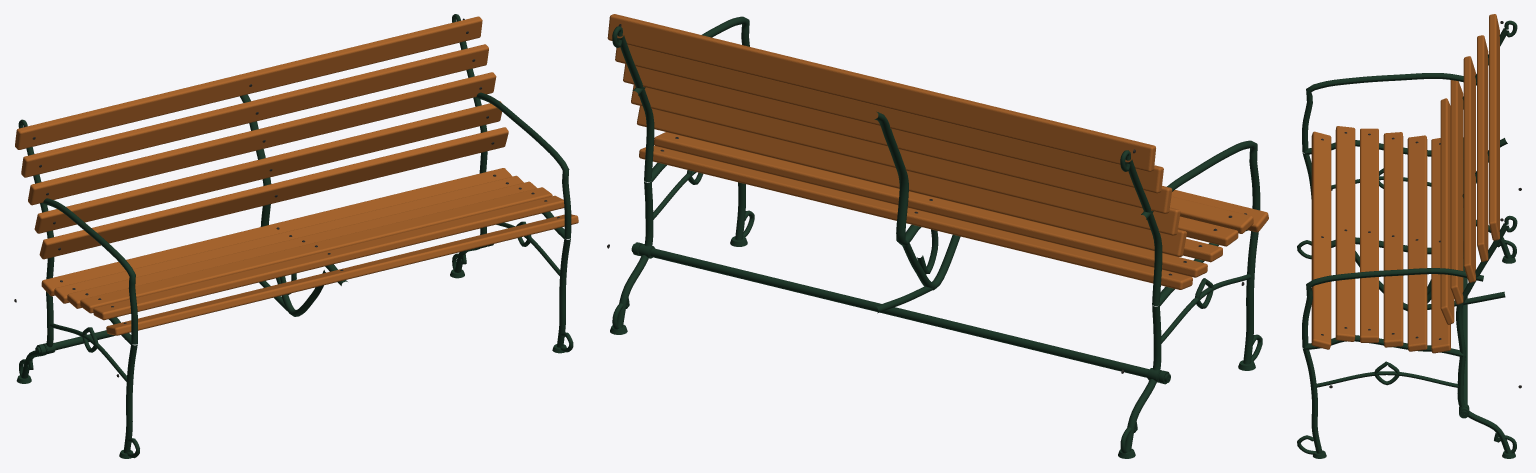
3 renders of one model, left to right at view 1: azimuth 30°, elevation 25°; view 2: azimuth 150°, elevation 25°; view 3: azimuth 270°, elevation 25°, orthographic. The views are drawn at different scales.
Visible parts, largest first — view 1: BackrestSlat, SeatSlat, SideFrame_1, SideFrame_0, CenterSupportRib; view 2: BackrestSlat, SeatSlat, SideFrame_1, BottomStretcher, SideFrame_0, CenterSupportRib; view 3: SeatSlat, BackrestSlat, SideFrame_0, SideFrame_1, CenterSupportRib, BottomStretcher.
Boxes of the visible parts, box(x1,y1,x2,y2) form: BackrestSlat: box(15, 16, 508, 259); SeatSlat: box(41, 168, 578, 335); SideFrame_1: box(16, 119, 139, 458); SideFrame_0: box(450, 14, 573, 353); CenterSupportRib: box(240, 94, 347, 316); BackrestSlat: box(607, 14, 1186, 256); SeatSlat: box(639, 132, 1268, 289); SideFrame_1: box(1118, 140, 1262, 458); BottomStretcher: box(631, 242, 1170, 384); SideFrame_0: box(610, 16, 754, 334); CenterSupportRib: box(874, 111, 960, 313); SeatSlat: box(1311, 126, 1450, 353); BackrestSlat: box(1440, 14, 1499, 324); SideFrame_0: box(1297, 215, 1517, 458); SideFrame_1: box(1297, 20, 1517, 263); CenterSupportRib: box(1331, 138, 1507, 311); BottomStretcher: box(1459, 212, 1469, 418).
Bounding box in the file's own units: 1.54 × 0.8281 × 0.7015.
